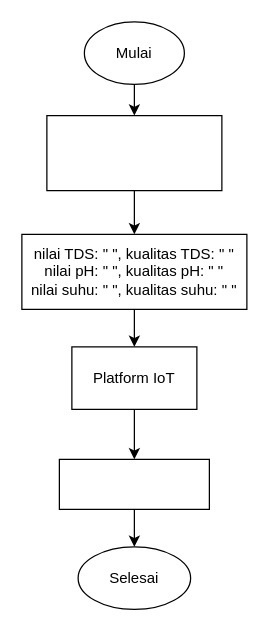
Some shapes in this 269 by 631 pixel diagram are drawn without their labels. The centre of each missing label's shape, as x and y in pixels:
"Aplikasi smartphone" belongs at point 133,483.
"Hasil monitoring dan kualitas air tambak" belongs at point 134,152.
